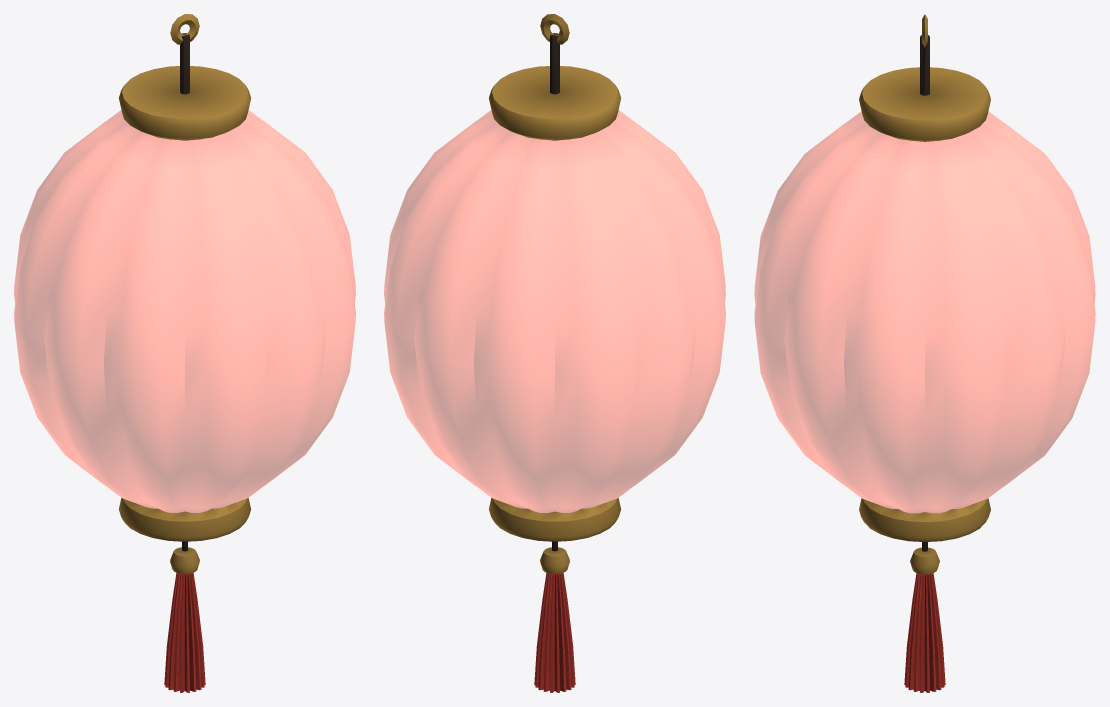
The model's file is lantern.glb.
3 views of the same model, side by side, from view 1: azimuth 30°, elevation 25°; view 2: azimuth 150°, elevation 25°; view 3: azimuth 270°, elevation 25° (orthographic).
Visible parts, largest first — view 1: lantern; view 2: lantern; view 3: lantern.
Part boxes in pixels (<box>): lantern: <box>14,14,355,692</box>; lantern: <box>384,14,725,692</box>; lantern: <box>754,14,1095,692</box>.
Bounding box in the file's own units: 0.5422 × 1.18 × 0.5422.
